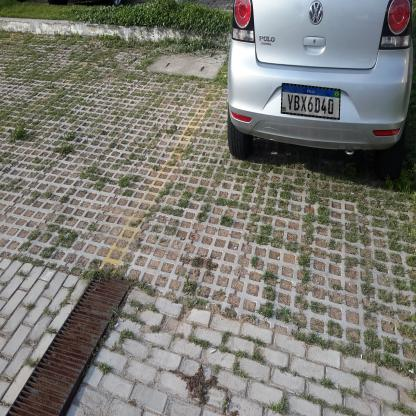PlacaM: (280, 83, 340, 120)
